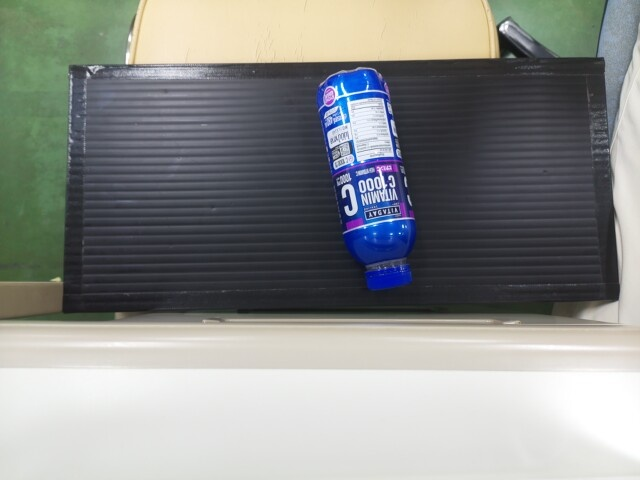plastic_bottle: (313, 66, 409, 289), (317, 72, 380, 267), (317, 68, 356, 245)
